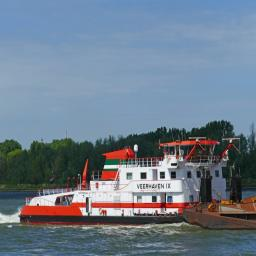tugboat: (19, 128, 246, 232)
